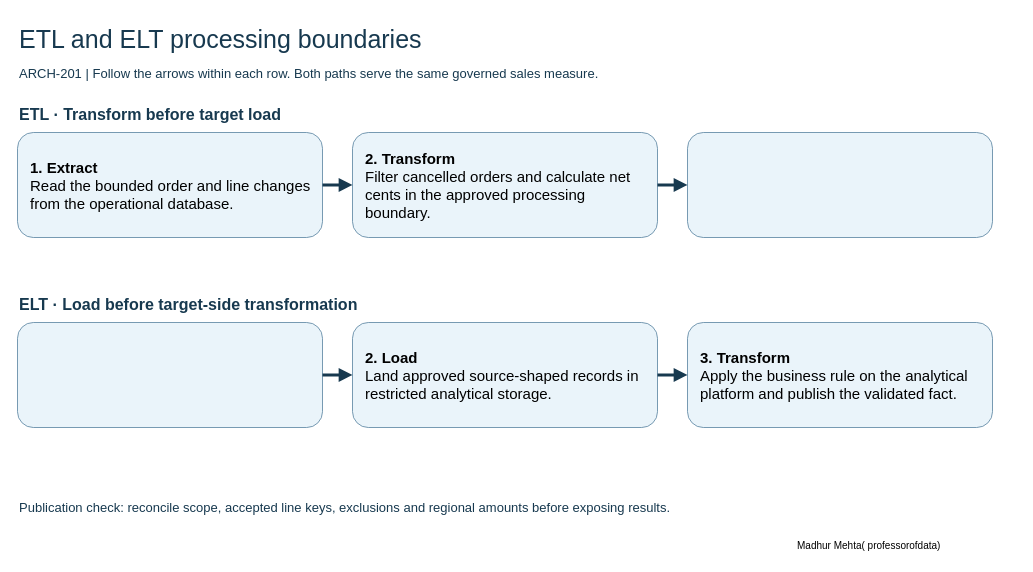
Some shapes in this 1033 by 572 pixel diagram are drawn without their labels. Each missing label, with the box of its shape:
1. Extract Read the same bounded changes and retain the input counts.: (16, 322, 322, 428)
3. Load Publish the validated order-line fact in the analytical target.: (686, 132, 992, 238)
